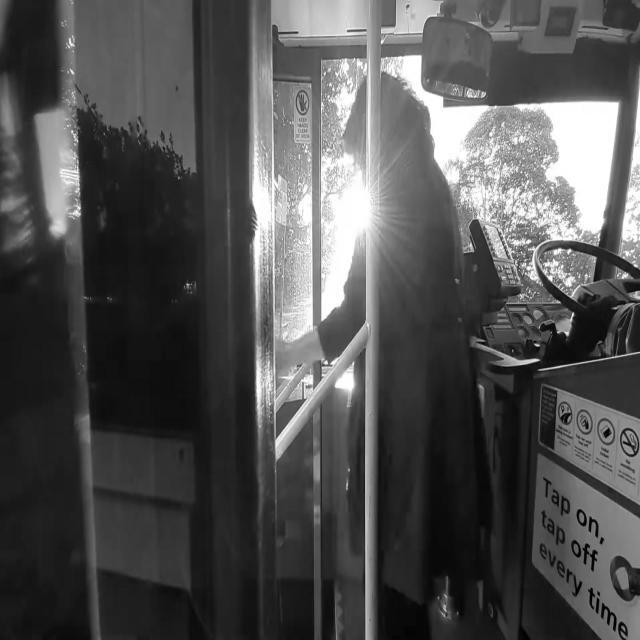bus-door: (69, 0, 325, 640)
